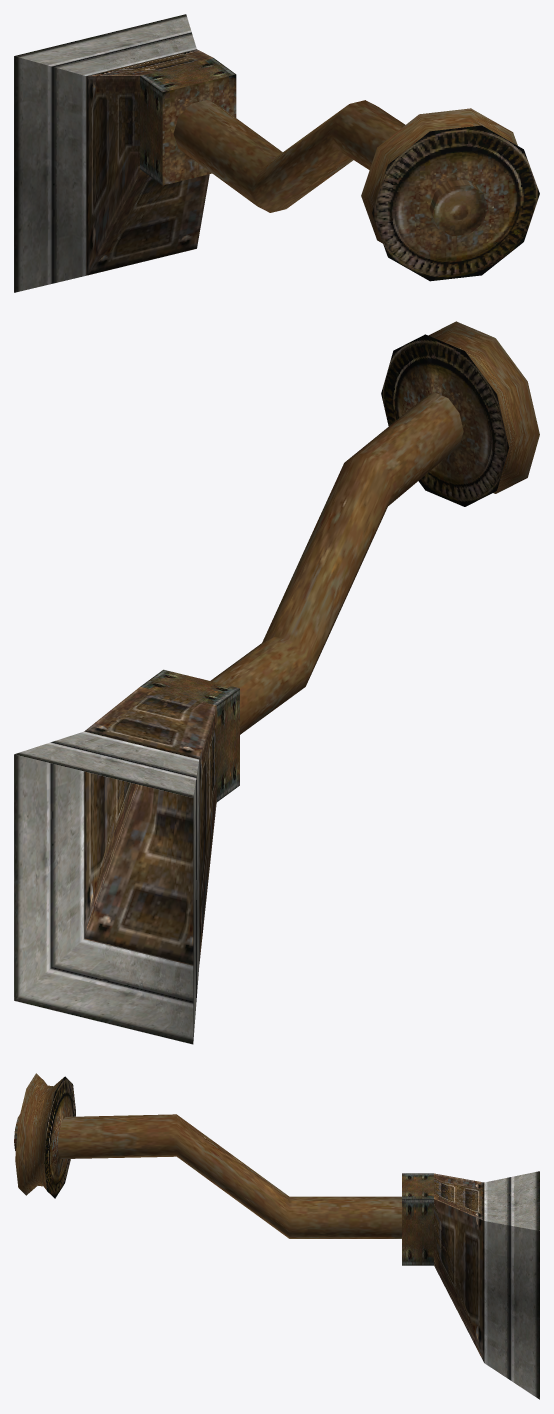
The model's file is DWARF_PALACE_GONDOLA_SUPPORT08A.fbx.
The picture shows the model from 3 angles, top to bottom: view 1: azimuth 30°, elevation 25°; view 2: azimuth 150°, elevation 25°; view 3: azimuth 270°, elevation 25°; orthographic projection. The views are drawn at different scales.
Parts seen in each view (by area): view 1: DWARF_PALACE_GONDOLA_SUPPORT08A; view 2: DWARF_PALACE_GONDOLA_SUPPORT08A; view 3: DWARF_PALACE_GONDOLA_SUPPORT08A.
Part boxes in pixels (x1,y1,x2,y2): DWARF_PALACE_GONDOLA_SUPPORT08A: [14, 14, 539, 292]; DWARF_PALACE_GONDOLA_SUPPORT08A: [14, 321, 539, 1044]; DWARF_PALACE_GONDOLA_SUPPORT08A: [14, 1073, 539, 1399].
Size of the model in its own units: 9972 by 22403 by 36996.
6 materials, 6 textured.
